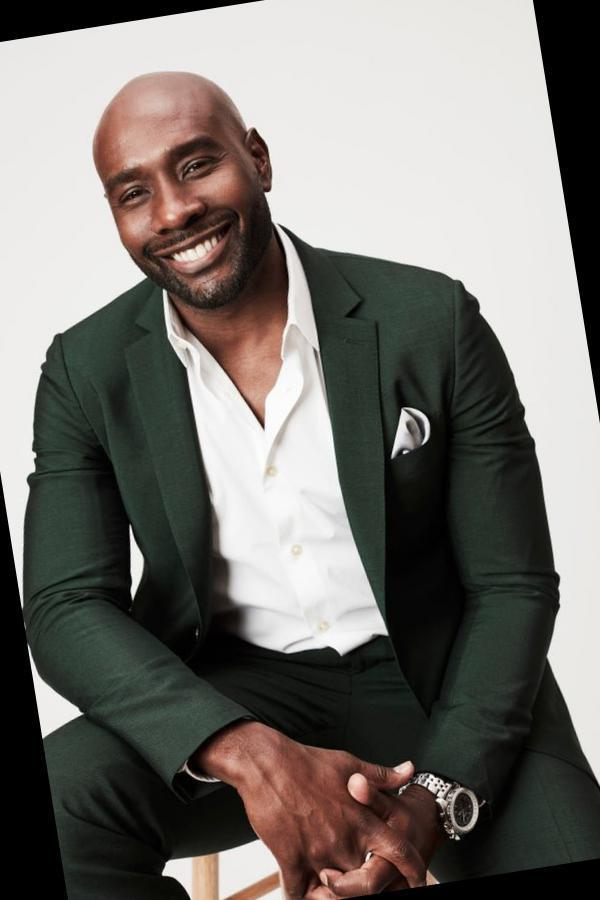Sober: (97, 104, 258, 301)
